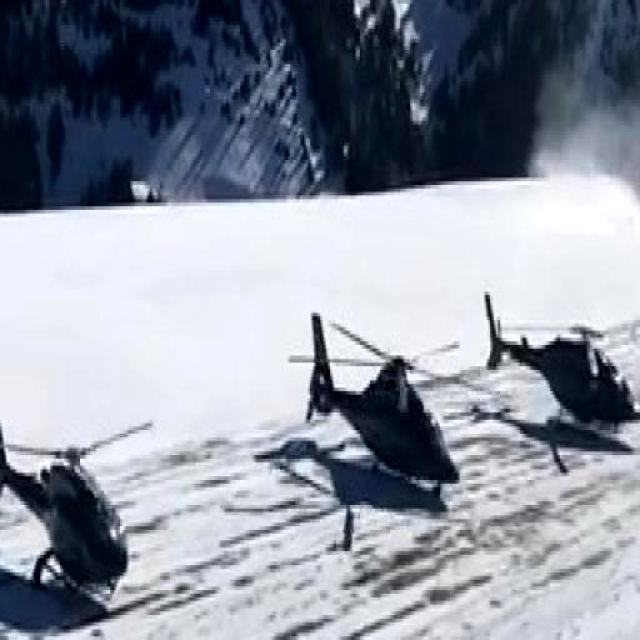drone: (270, 294, 466, 516), (0, 378, 160, 611), (478, 270, 640, 466)
